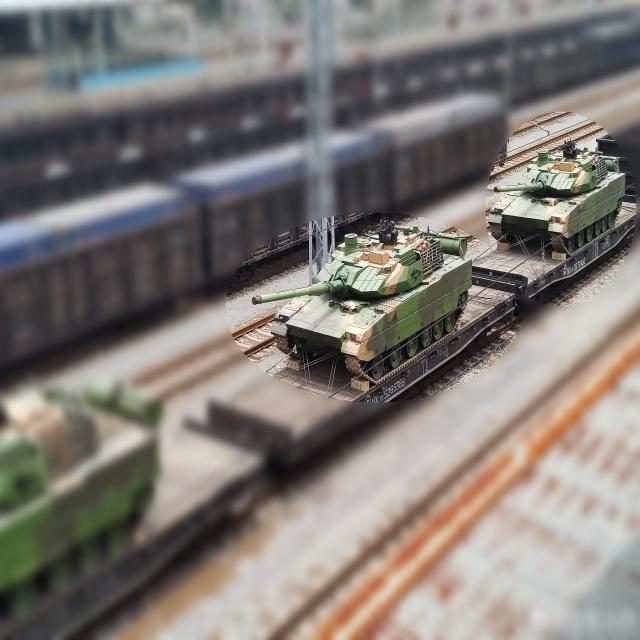Tanks: (246, 222, 473, 390), (486, 138, 631, 262)
